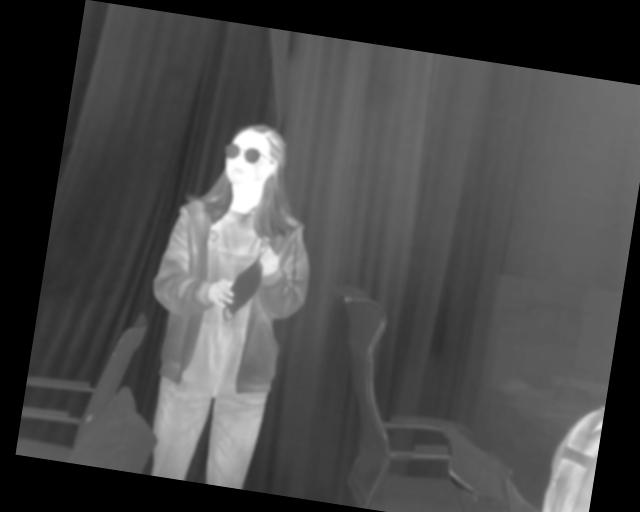face: (219, 119, 288, 193)
